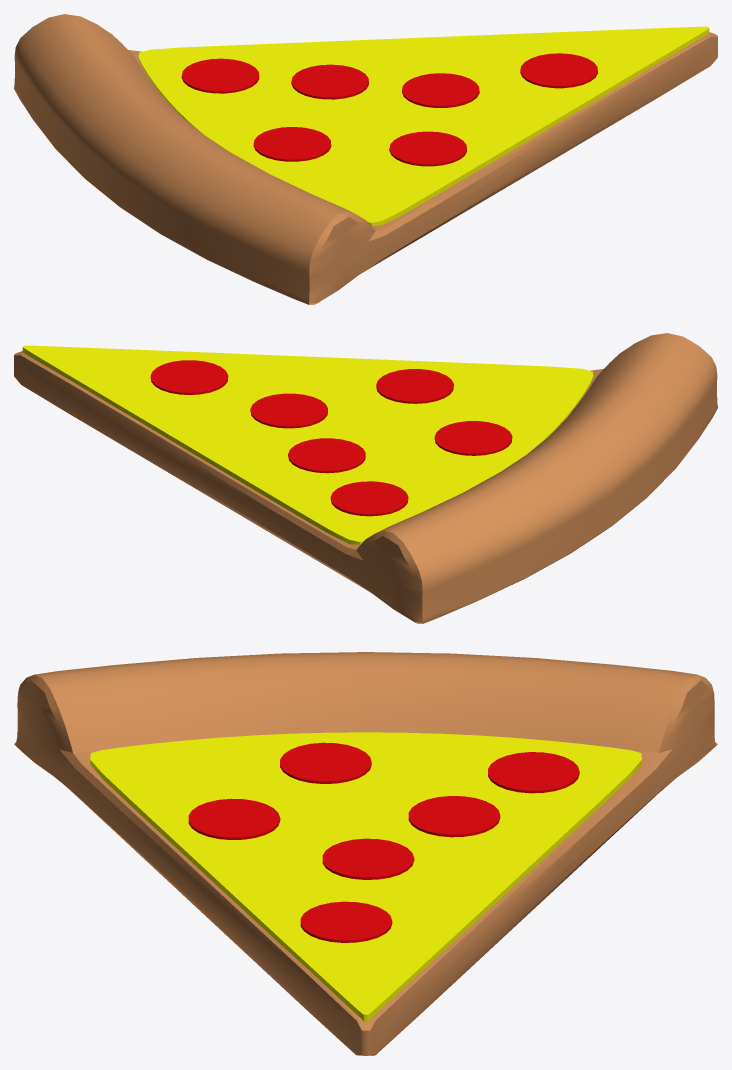
Rendered from pizza.fbx.
3 views of the same model, one above another, from view 1: azimuth 30°, elevation 25°; view 2: azimuth 150°, elevation 25°; view 3: azimuth 270°, elevation 25° (orthographic). The views are drawn at different scales.
Parts seen in each view (by area): view 1: Circle.001, Circle.002, Cylinder.003, Cylinder, Cylinder.005, Cylinder.001, Cylinder.002, Cylinder.004; view 2: Circle.001, Circle.002, Cylinder, Cylinder.004, Cylinder.002, Cylinder.001, Cylinder.003, Cylinder.005; view 3: Circle.001, Circle.002, Cylinder.003, Cylinder.002, Cylinder, Cylinder.004, Cylinder.001, Cylinder.005.
Part boxes in pixels (x1=…): Circle.001: x1=14, y1=14, x2=717, y2=304; Circle.002: x1=138, y1=26, x2=709, y2=225; Cylinder.003: x1=520, y1=53, x2=597, y2=88; Cylinder: x1=181, y1=58, x2=259, y2=93; Cylinder.005: x1=389, y1=131, x2=466, y2=166; Cylinder.001: x1=291, y1=64, x2=368, y2=99; Cylinder.002: x1=253, y1=127, x2=331, y2=161; Cylinder.004: x1=402, y1=73, x2=479, y2=107; Circle.001: x1=14, y1=333, x2=717, y2=623; Circle.002: x1=22, y1=345, x2=593, y2=544; Cylinder: x1=330, y1=481, x2=408, y2=516; Cylinder.004: x1=250, y1=393, x2=327, y2=428; Cylinder.002: x1=434, y1=421, x2=512, y2=455; Cylinder.001: x1=288, y1=438, x2=365, y2=473; Cylinder.003: x1=150, y1=360, x2=228, y2=394; Cylinder.005: x1=376, y1=369, x2=453, y2=403; Circle.001: x1=14, y1=652, x2=717, y2=1055; Circle.002: x1=90, y1=732, x2=641, y2=1021; Cylinder.003: x1=300, y1=901, x2=392, y2=942; Cylinder.002: x1=280, y1=742, x2=371, y2=783; Cylinder: x1=488, y1=752, x2=579, y2=793; Cylinder.004: x1=322, y1=838, x2=414, y2=879; Cylinder.001: x1=408, y1=796, x2=500, y2=837; Cylinder.005: x1=188, y1=798, x2=280, y2=839.
Size of the model in its own units: 70.39 by 8.32 by 60.73.
